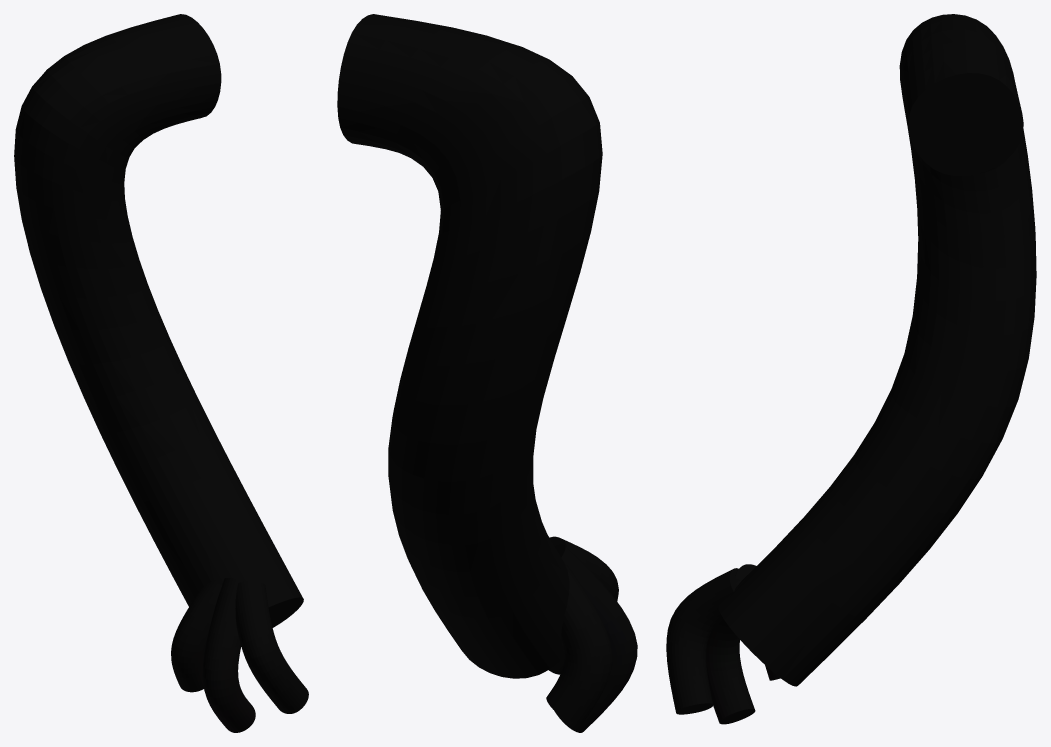
The model's file is WatcherKnightRightArm.obj.
3 renders of one model, left to right at view 1: azimuth 30°, elevation 25°; view 2: azimuth 150°, elevation 25°; view 3: azimuth 270°, elevation 25°, orthographic. The views are drawn at different scales.
Parts seen in each view (by area): view 1: Watcher_Knights.003; view 2: Watcher_Knights.003; view 3: Watcher_Knights.003.
Boxes of the visible parts, box(x1,y1,x2,y2) form: Watcher_Knights.003: box(14, 14, 308, 732); Watcher_Knights.003: box(337, 14, 637, 732); Watcher_Knights.003: box(666, 14, 1036, 724).
Size of the model in its own units: 2.22 by 6.61 by 3.23.
